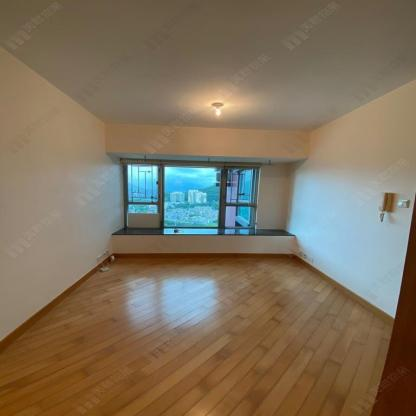Windowsill: (104, 152, 308, 236)
